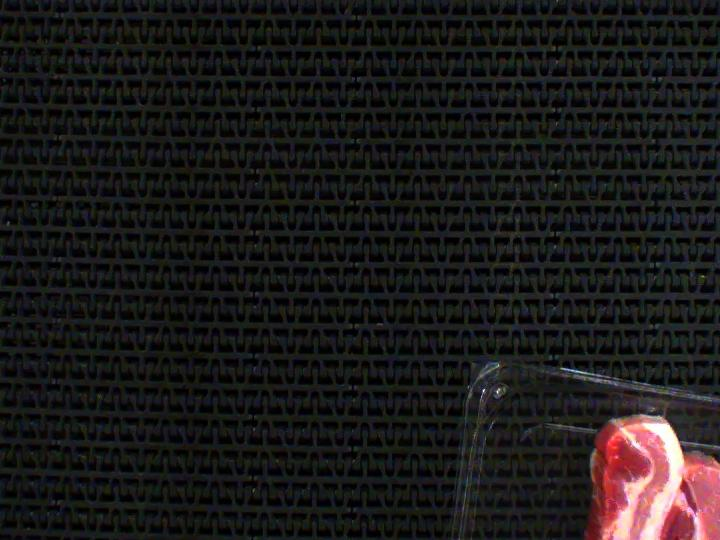packaging-error: (634, 384, 672, 423)
